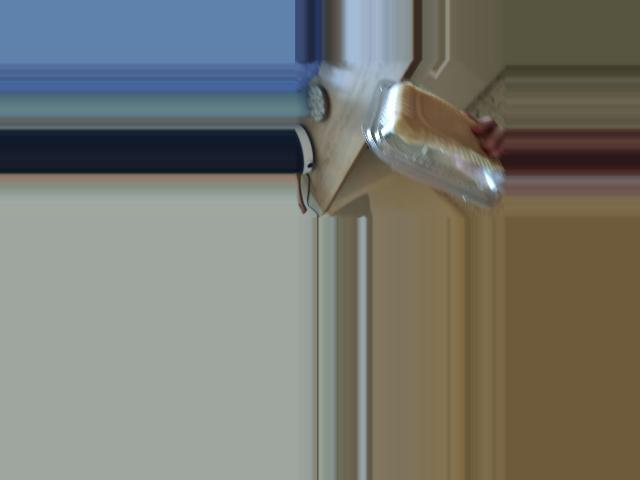cheese: (377, 96, 455, 186)
